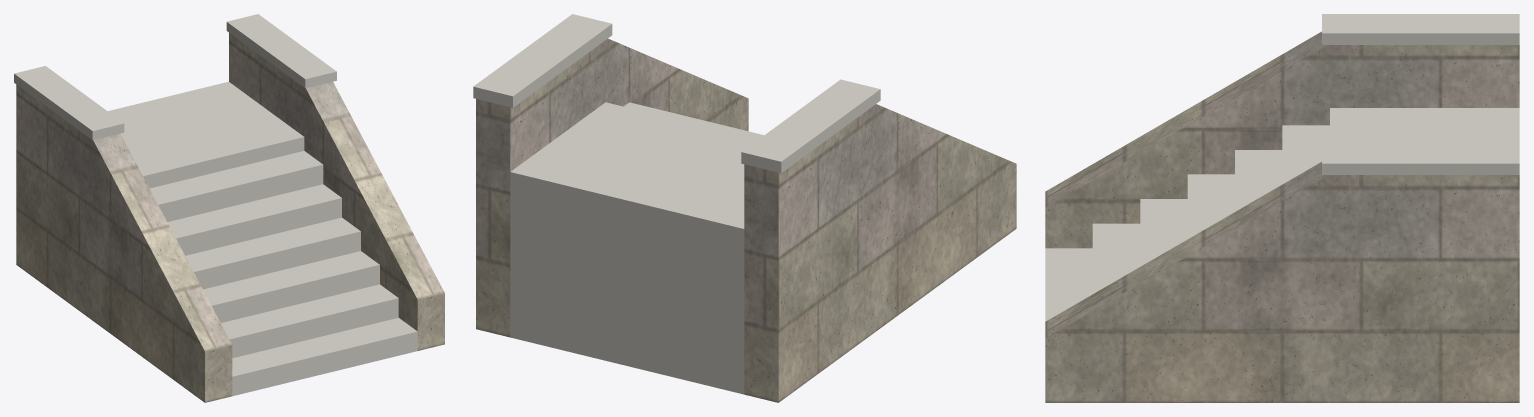
The model's file is stoop_b.glb.
3 views of the same model, side by side, from view 1: azimuth 30°, elevation 25°; view 2: azimuth 150°, elevation 25°; view 3: azimuth 270°, elevation 25° (orthographic). The views are drawn at different scales.
Visible parts, largest first — view 1: stoop_b_lime, stoop_b_grey; view 2: stoop_b_grey, stoop_b_lime; view 3: stoop_b_grey, stoop_b_lime.
Boxes of the visible parts, x1=… form: stoop_b_lime: x1=14, y1=14, x2=417, y2=396; stoop_b_grey: x1=16, y1=33, x2=444, y2=402; stoop_b_grey: x1=476, y1=38, x2=1016, y2=402; stoop_b_lime: x1=473, y1=14, x2=880, y2=394; stoop_b_grey: x1=1045, y1=31, x2=1519, y2=402; stoop_b_lime: x1=1045, y1=14, x2=1519, y2=321.
Size of the model in its own units: 2.24 by 1.68 by 3.
2 materials, 1 textured.
